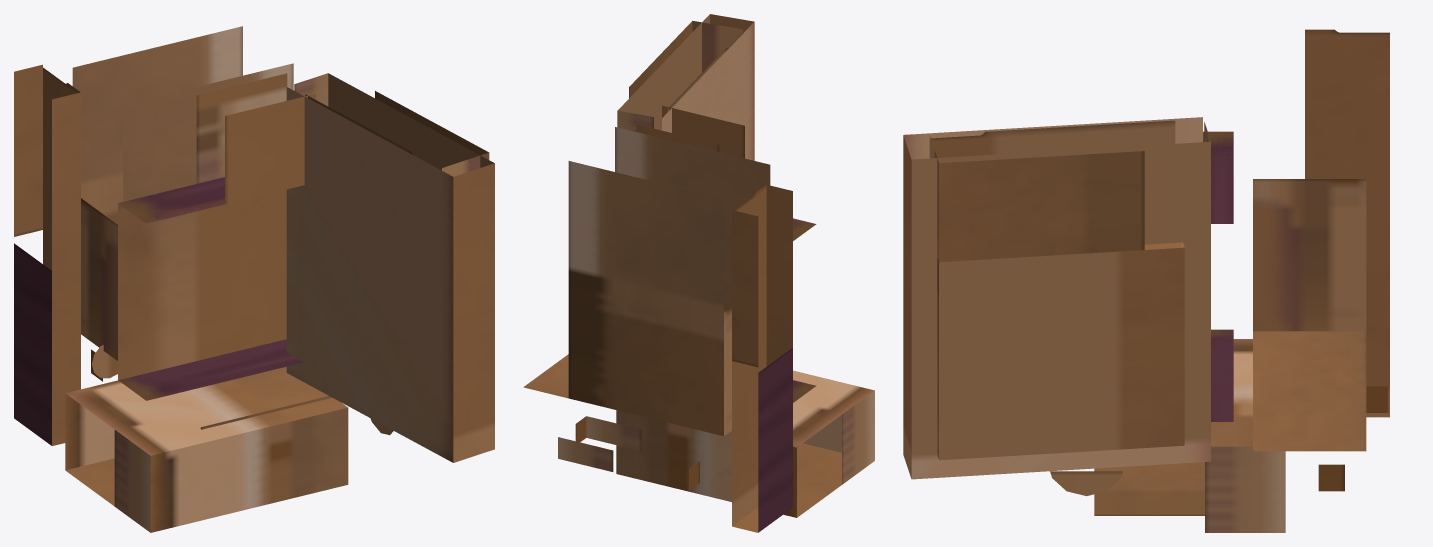
File: section-7.obj
3 renders of one model, left to right at view 1: azimuth 30°, elevation 25°; view 2: azimuth 150°, elevation 25°; view 3: azimuth 270°, elevation 25°, orthographic. The views are drawn at different scales.
Size of the model in its own units: 0.7142 by 0.9123 by 1.04.
